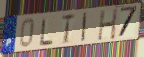0: (18, 17, 36, 50)
7: (119, 5, 139, 39)
H: (96, 7, 119, 42)
I: (80, 11, 88, 44)
L: (39, 16, 54, 48)
T: (61, 13, 76, 46)
